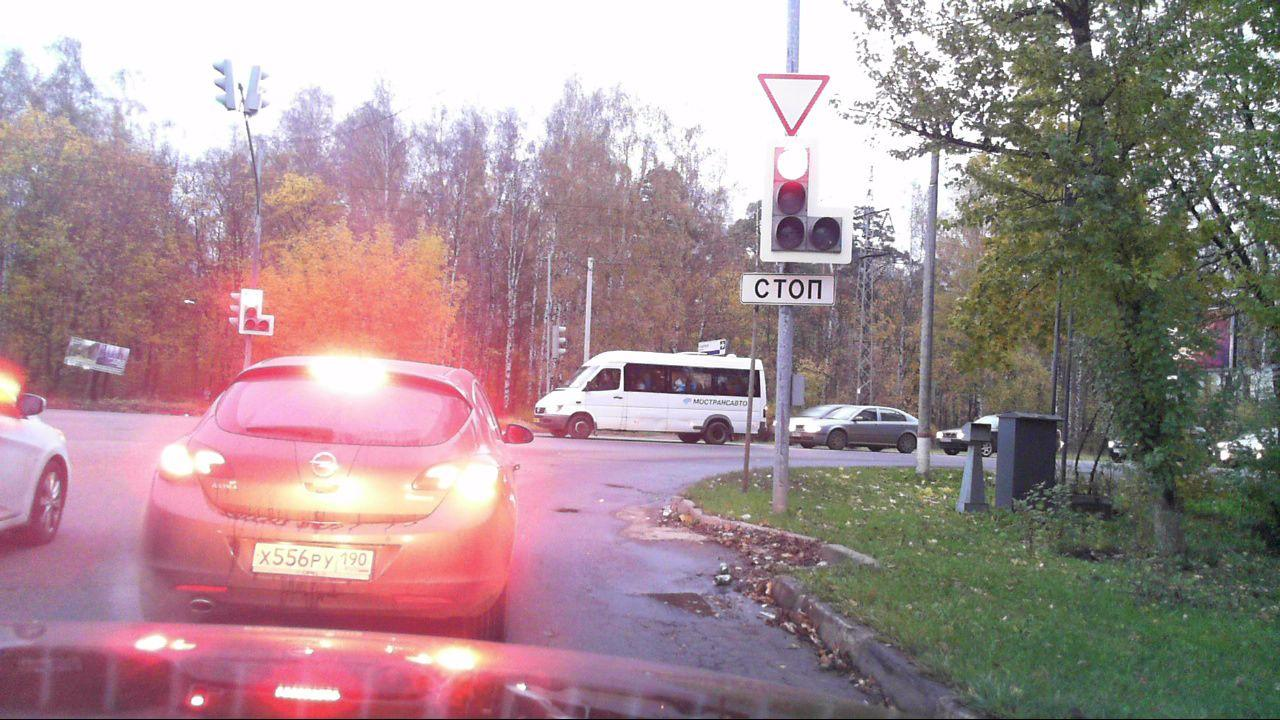2_4: (750, 63, 831, 139)
6_16: (743, 276, 836, 306)
